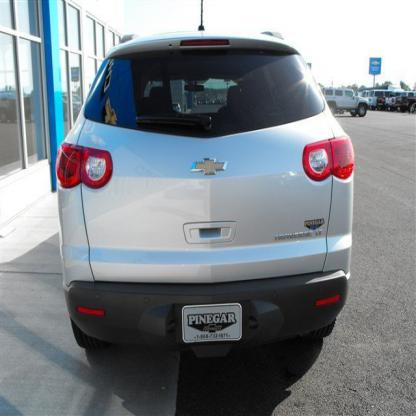car: (52, 1, 357, 373)
